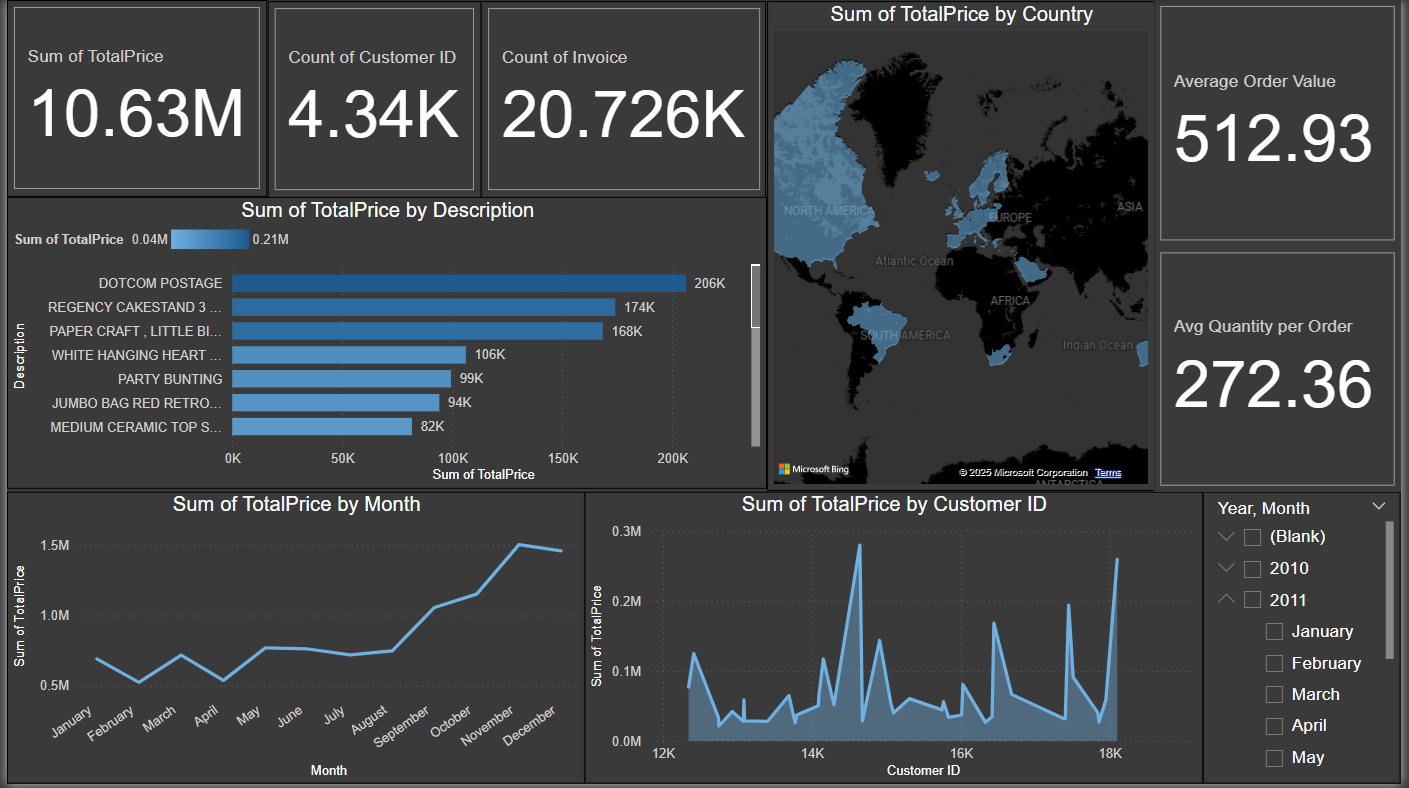

What the dashboard file says about the page in this screenshot:
{"tool":"powerbi","page":{"name":"Page 1","canvas":[1280,720],"ordinal":0},"visuals":[{"type":"cardVisual","fields":{"Data":["Sum(Year 2010-2011.TotalPrice)"]},"box":[0,0,239.5,180.6],"z":0},{"type":"cardVisual","fields":{"Data":["Count(Year 2010-2011.Invoice)"]},"box":[435.6,1,262.2,180.6],"z":1000},{"type":"cardVisual","fields":{"Data":["Count(Year 2010-2011.Customer ID)"]},"box":[239.5,1,196.1,180.6],"z":2000},{"type":"lineChart","fields":{"Category":["Year 2010-2011.InvoiceDate.Variation.Date Hierarchy.Year","Year 2010-2011.InvoiceDate.Variation.Date Hierarchy.Quarter","Year 2010-2011.InvoiceDate.Variation.Date Hierarchy.Month"],"Y":["Sum(Year 2010-2011.TotalPrice)"]},"box":[0,452.1,530.6,268.4],"z":3000},{"type":"clusteredBarChart","title":"Sum of TotalPrice by Description","fields":{"Category":["Year 2010-2011.Description"],"Y":["Sum(Year 2010-2011.TotalPrice)"]},"box":[0,180.6,697.8,268.4],"z":4000},{"type":"areaChart","fields":{"Category":["Year 2010-2011.Customer ID"],"Y":["Sum(Year 2010-2011.TotalPrice)"]},"box":[530.6,452.1,567.7,268.4],"z":5000},{"type":"filledMap","fields":{"Category":["Year 2010-2011.Country"]},"box":[697.8,1,356.1,450.1],"z":6000},{"type":"slicer","fields":{"Values":["Year 2010-2011.InvoiceDate.Variation.Date Hierarchy.Year","Year 2010-2011.InvoiceDate.Variation.Date Hierarchy.Month"]},"box":[1098.3,452.1,181.7,268.4],"z":7000},{"type":"cardVisual","fields":{"Data":["Year 2010-2011.Average Order Value"]},"box":[1053.9,0,226.1,226.1],"z":8000},{"type":"cardVisual","fields":{"Data":["Year 2010-2011.Avg Quantity per Order"]},"box":[1053.9,226.1,226.1,225],"z":9000}]}

Visuals, with their boxes in screenshot pixels (x1, y1, x2, y2), scaled from the page's 1280x720 canvas onto the 1409x788 screenshot:
cardVisual - Sum(Year 2010-2011.TotalPrice): rect(0, 0, 264, 198)
cardVisual - Count(Year 2010-2011.Invoice): rect(480, 1, 768, 199)
cardVisual - Count(Year 2010-2011.Customer ID): rect(264, 1, 480, 199)
lineChart - Year 2010-2011.InvoiceDate.Variation.Date Hierarchy.Year x Year 2010-2011.InvoiceDate.Variation.Date Hierarchy.Quarter: rect(0, 495, 584, 787)
"Sum of TotalPrice by Description" clusteredBarChart: rect(0, 198, 768, 491)
areaChart - Year 2010-2011.Customer ID x Sum(Year 2010-2011.TotalPrice): rect(584, 495, 1209, 787)
filledMap - Year 2010-2011.Country: rect(768, 1, 1160, 494)
slicer - Year 2010-2011.InvoiceDate.Variation.Date Hierarchy.Year x Year 2010-2011.InvoiceDate.Variation.Date Hierarchy.Month: rect(1209, 495, 1408, 787)
cardVisual - Year 2010-2011.Average Order Value: rect(1160, 0, 1408, 247)
cardVisual - Year 2010-2011.Avg Quantity per Order: rect(1160, 247, 1408, 494)
